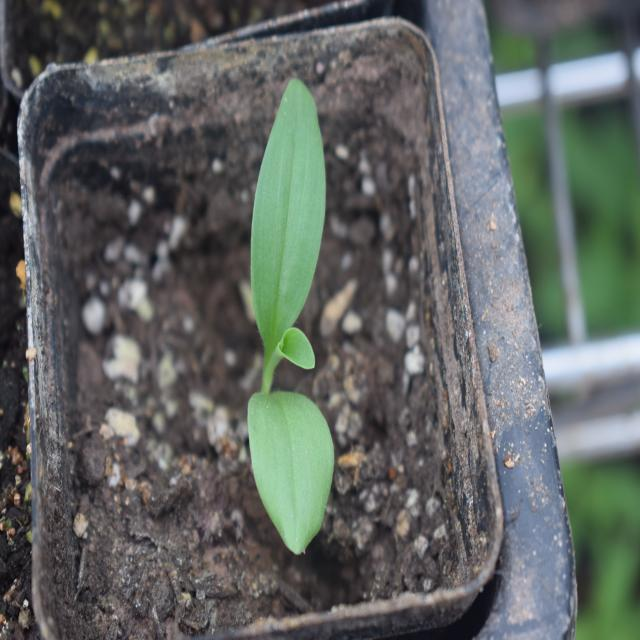Common Dayflower: (238, 60, 360, 529)
